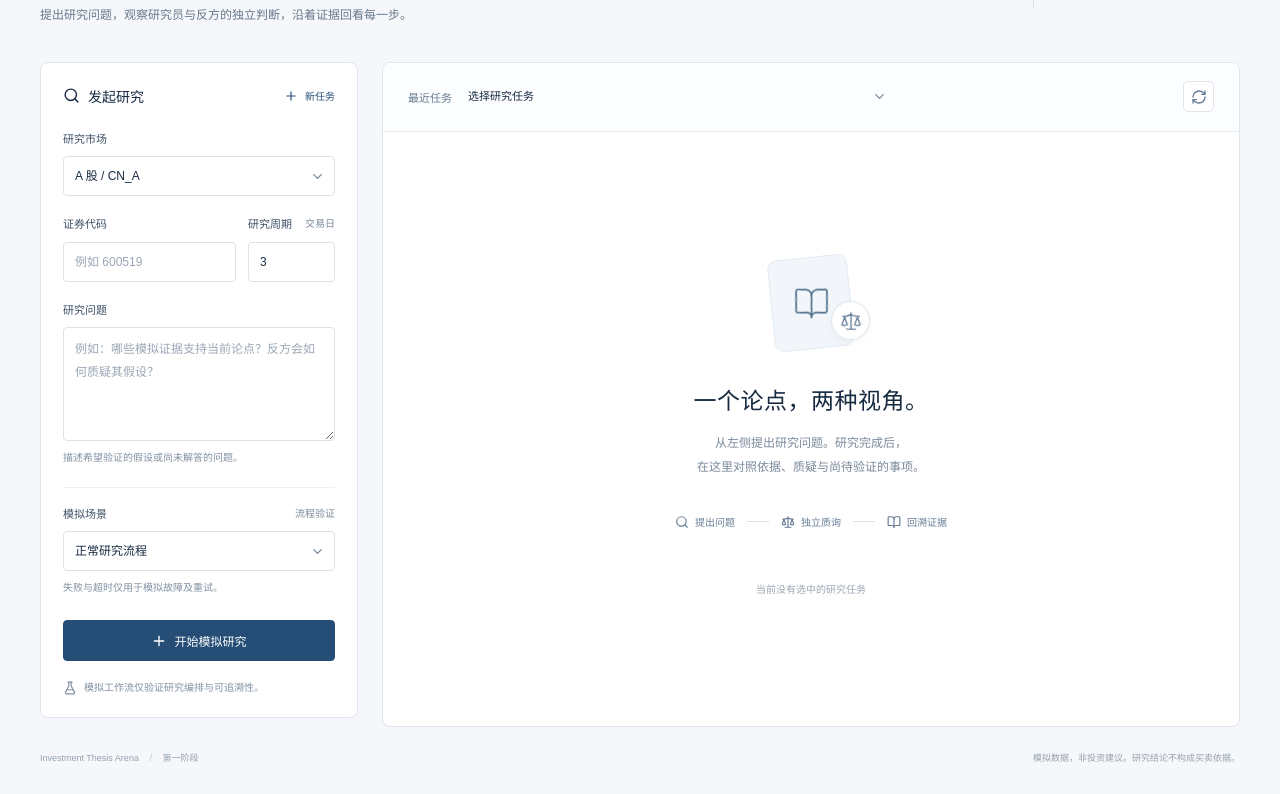
Test case: research workbench › starts empty and rejects invalid forms without a POST
(page scrolled)
Check: the heading "一个论点，两种视角。" is shown, box [694, 382, 928, 416]
Click the button "开始模拟研究" at (199,641), box [63, 620, 335, 661]
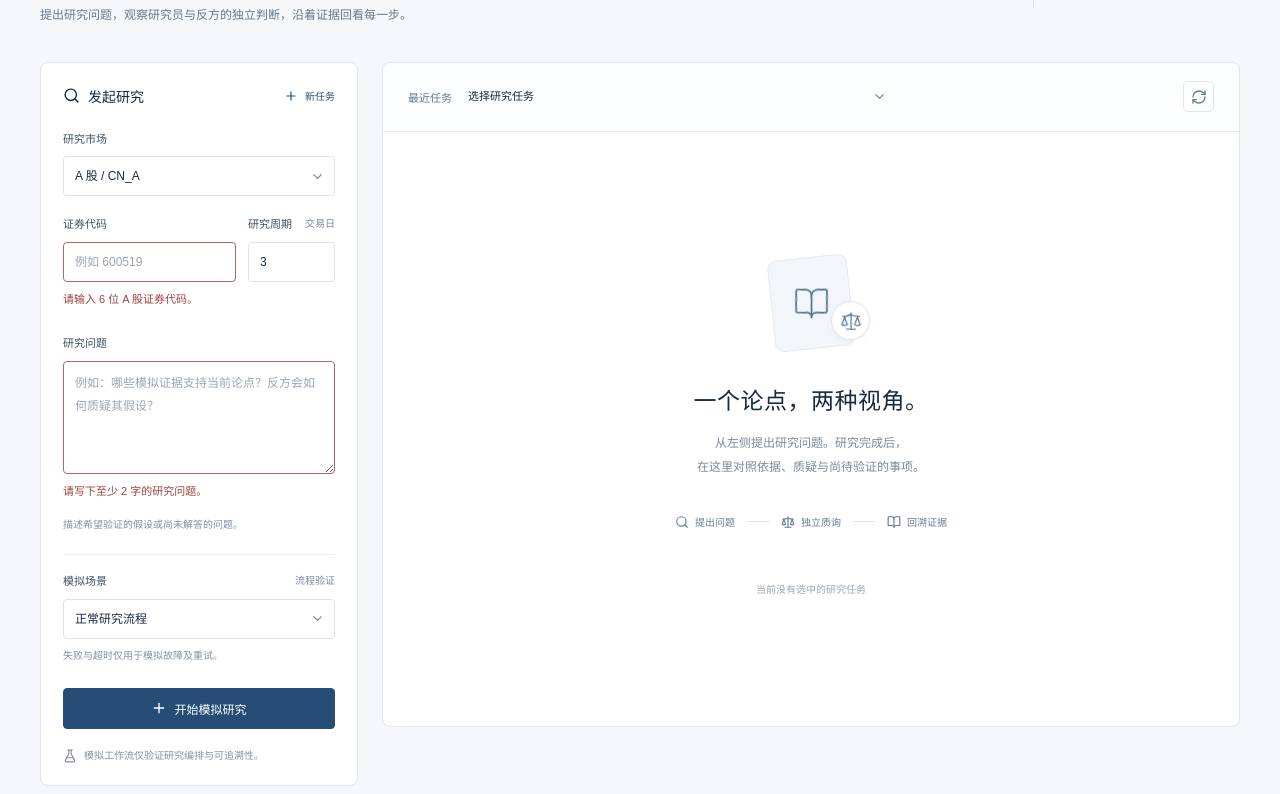
Check: the text "请输入 6 位 A 股证券代码。" is shown, box [63, 293, 198, 305]
Check: the text "请写下至少 2 字的研究问题。" is shown, box [63, 485, 207, 497]
